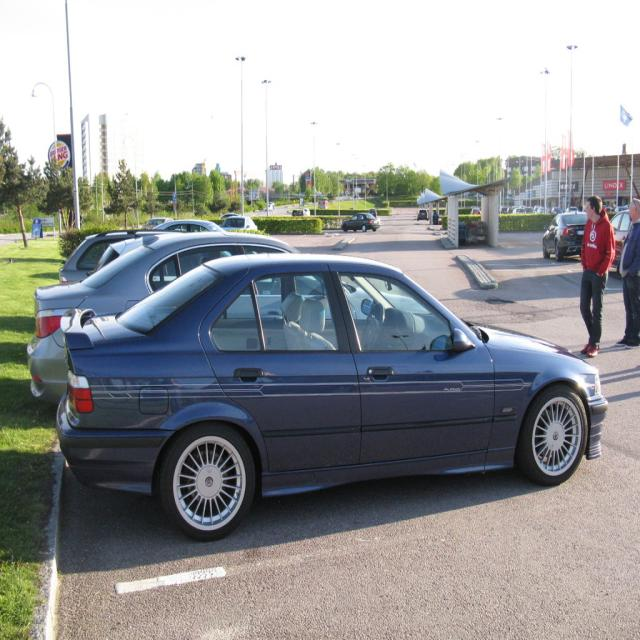car: (338, 214, 380, 235)
